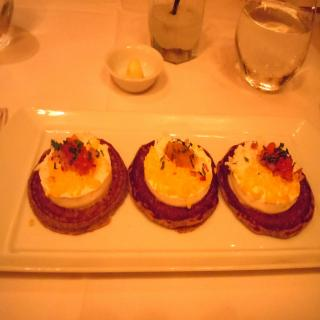Pancake: (29, 137, 129, 234), (219, 139, 316, 239), (129, 135, 219, 233)
